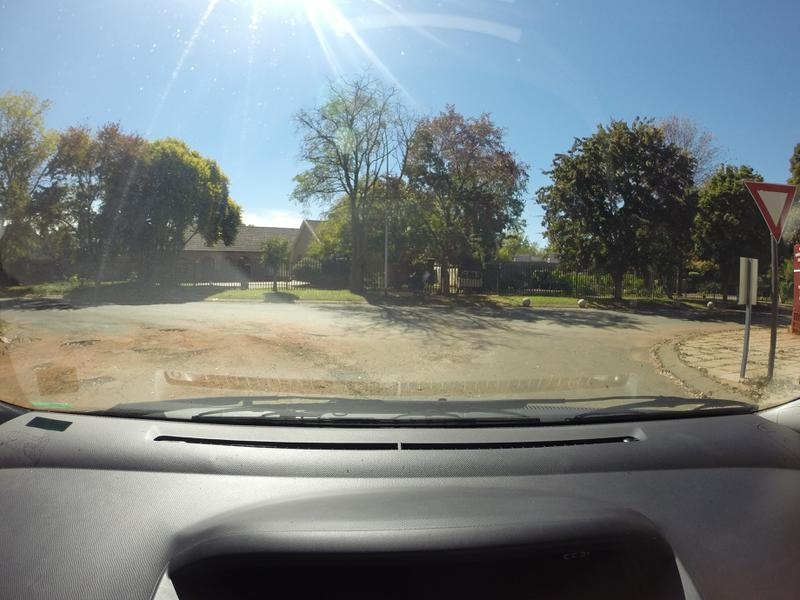pothole: (54, 333, 100, 349), (132, 348, 188, 361), (78, 371, 109, 390), (158, 321, 182, 334)
